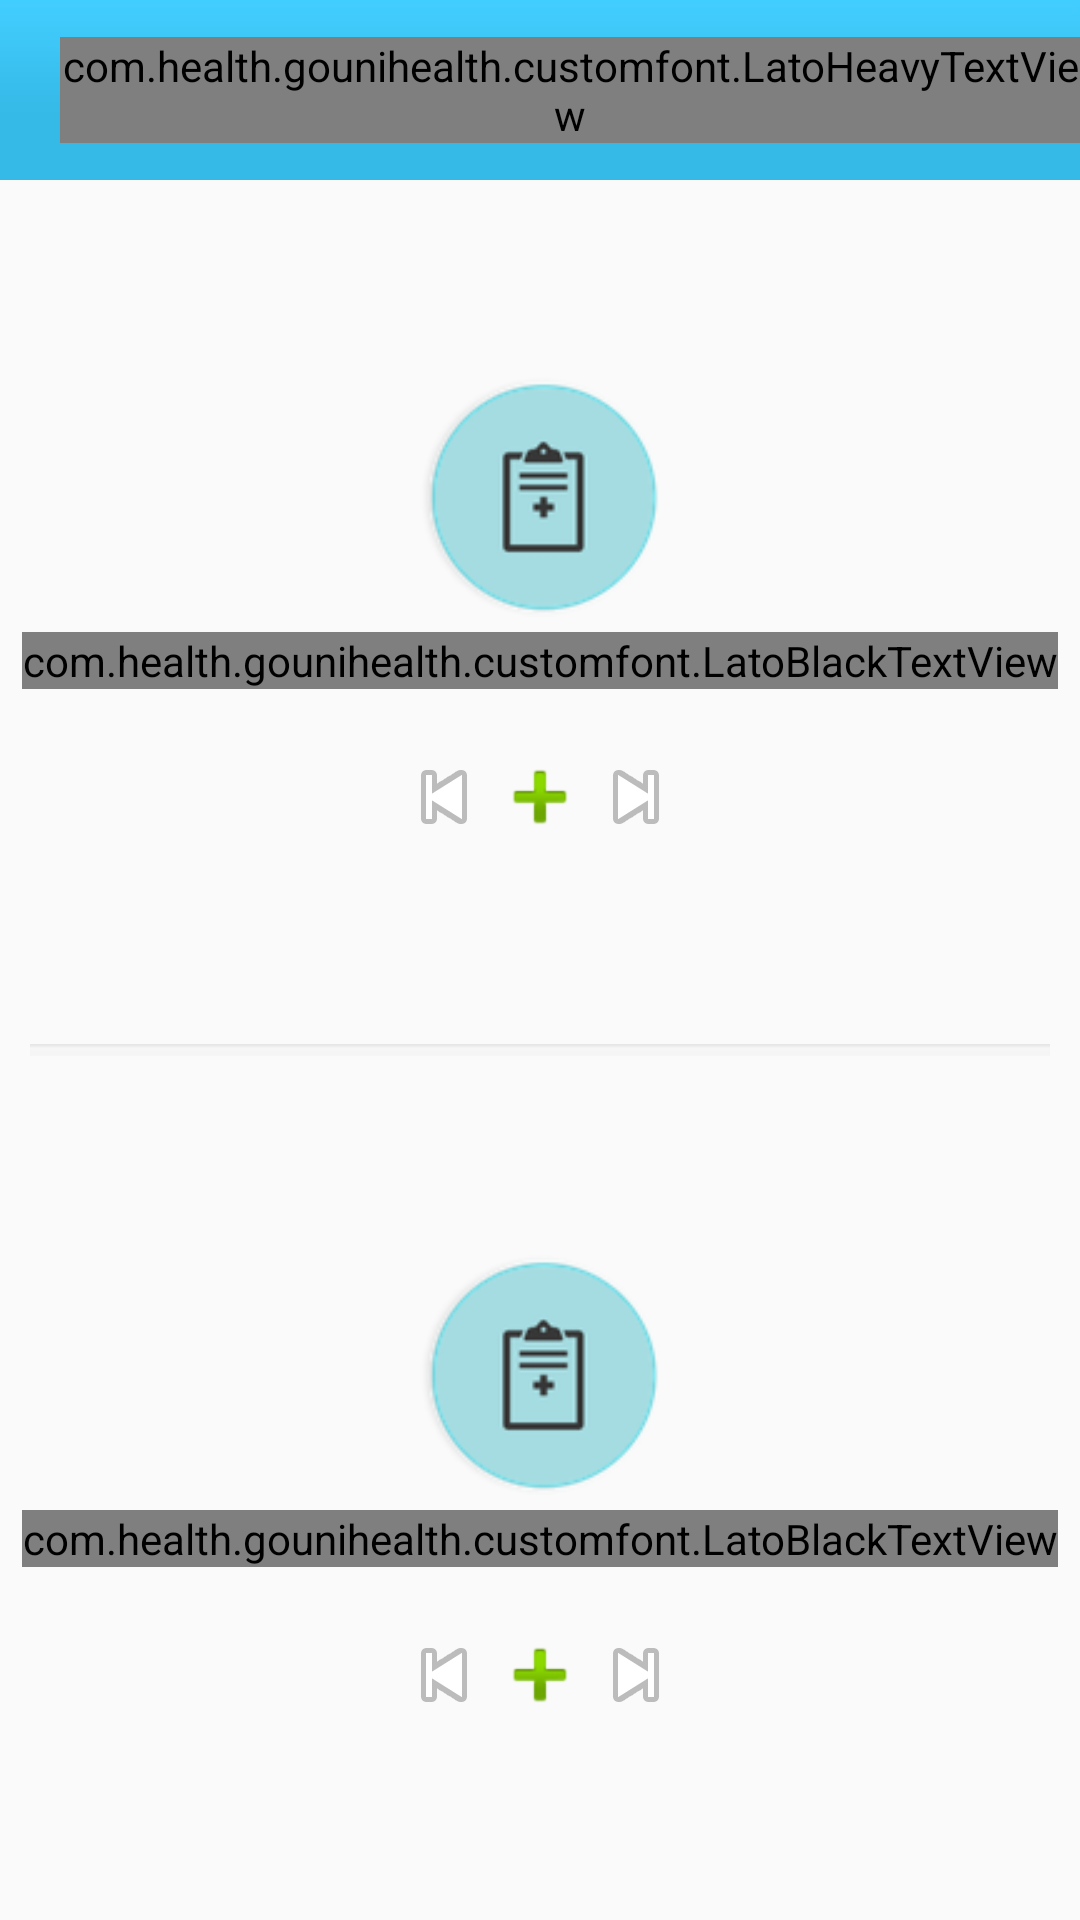

Icon click points for this 1080×1920 phone screenshot, format [x,y]:
add: [540,797], [540,1675]
next: [636,797], [636,1675]
previous: [444,797], [444,1675]
